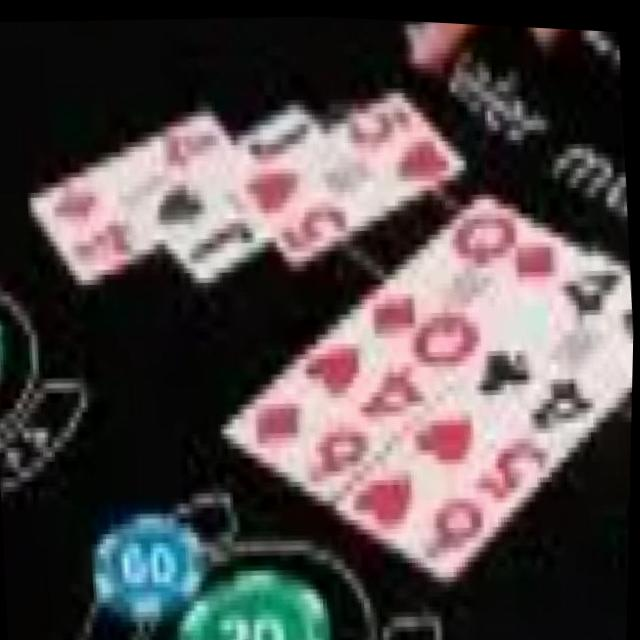Card-4: (32, 106, 232, 284), (459, 245, 634, 448), (294, 311, 448, 428)
Card-5: (236, 84, 466, 267), (398, 384, 564, 514)
Card-6: (336, 433, 506, 579), (225, 362, 392, 497)
Card-J: (133, 97, 322, 280)
Card-Q: (351, 185, 582, 379)
